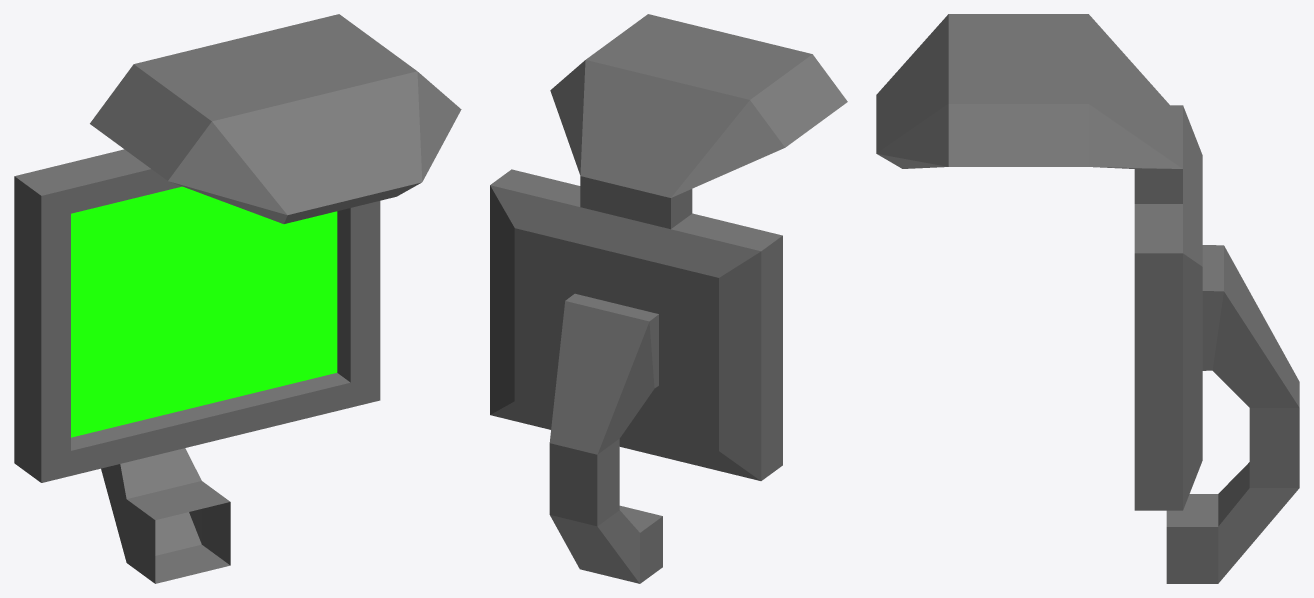
File: recharger.glb
3 views of the same model, side by side, from view 1: azimuth 30°, elevation 25°; view 2: azimuth 150°, elevation 25°; view 3: azimuth 270°, elevation 25° (orthographic). The views are drawn at different scales.
Parts seen in each view (by area): view 1: Recharger; view 2: Recharger; view 3: Recharger.
Part boxes in pixels (<box>): Recharger: <box>14,14,461,583</box>; Recharger: <box>490,14,847,583</box>; Recharger: <box>876,14,1299,583</box>.
Size of the model in its own units: 2 by 3.2 by 2.41.
